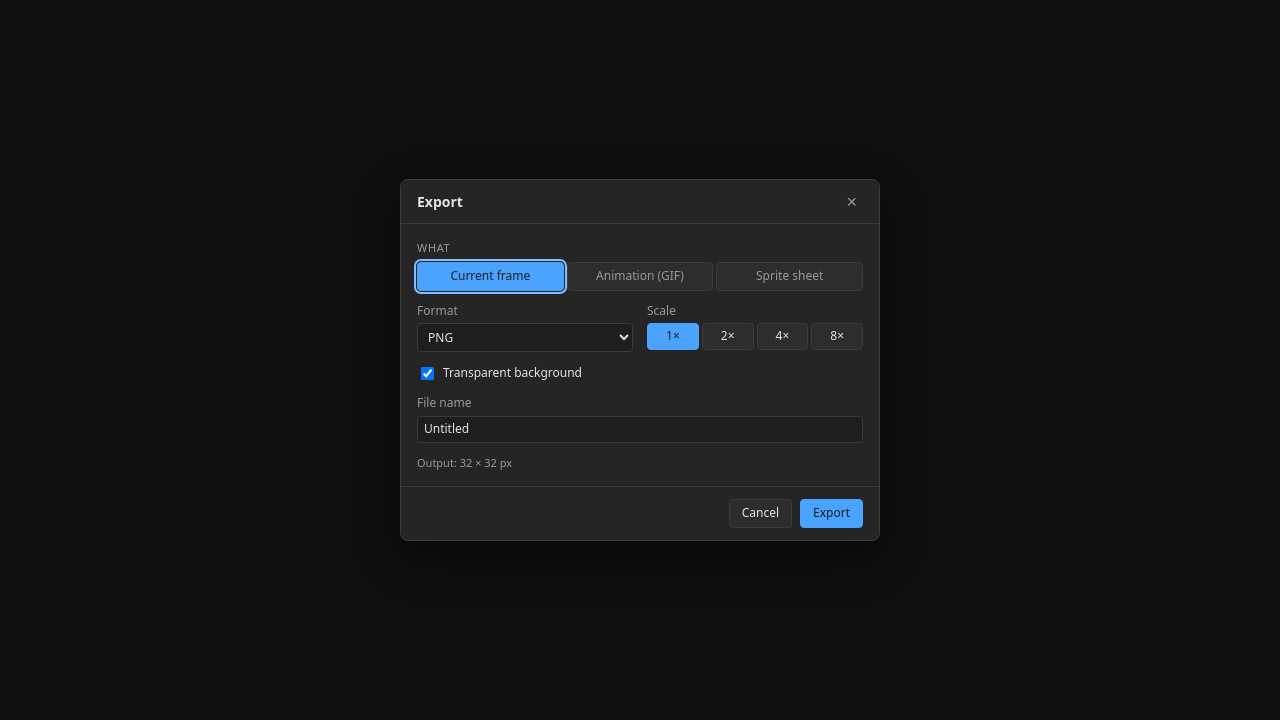
Test: ExportDialog › animation export is GIF-only
Click the tab "Animation (GIF)". click: {"x": 640, "y": 276}
box: [567,262,713,291]
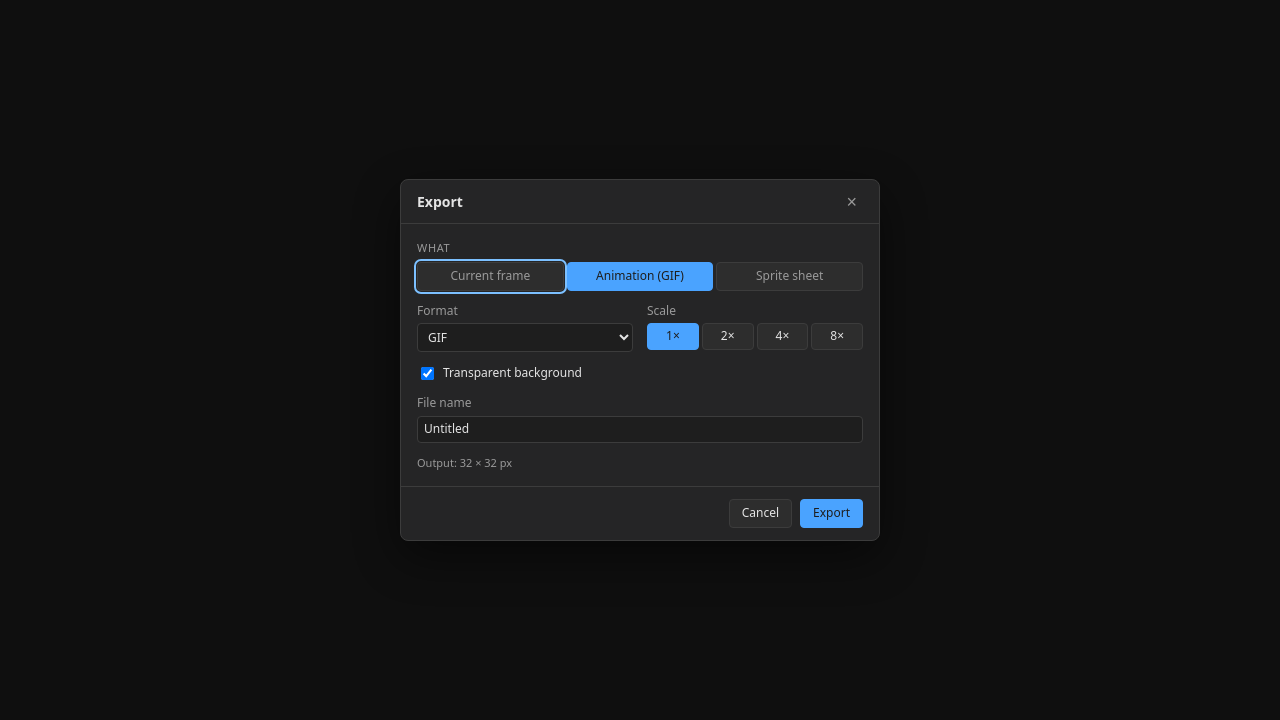
Now the dropdown labelled "Format" shows "GIF", box [417,323,633,352]
